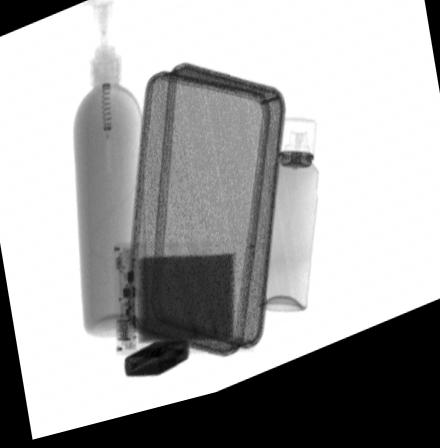Lighter: (122, 349, 187, 384)
Powerbank: (113, 248, 255, 363)
Sprayer: (256, 133, 319, 328)
